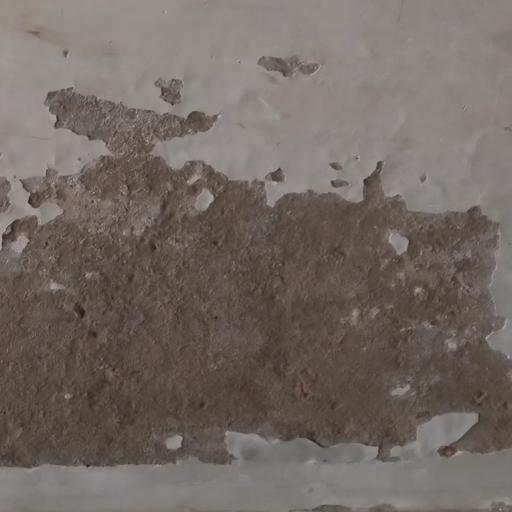peeling: (0, 63, 512, 512), (257, 39, 331, 84)
